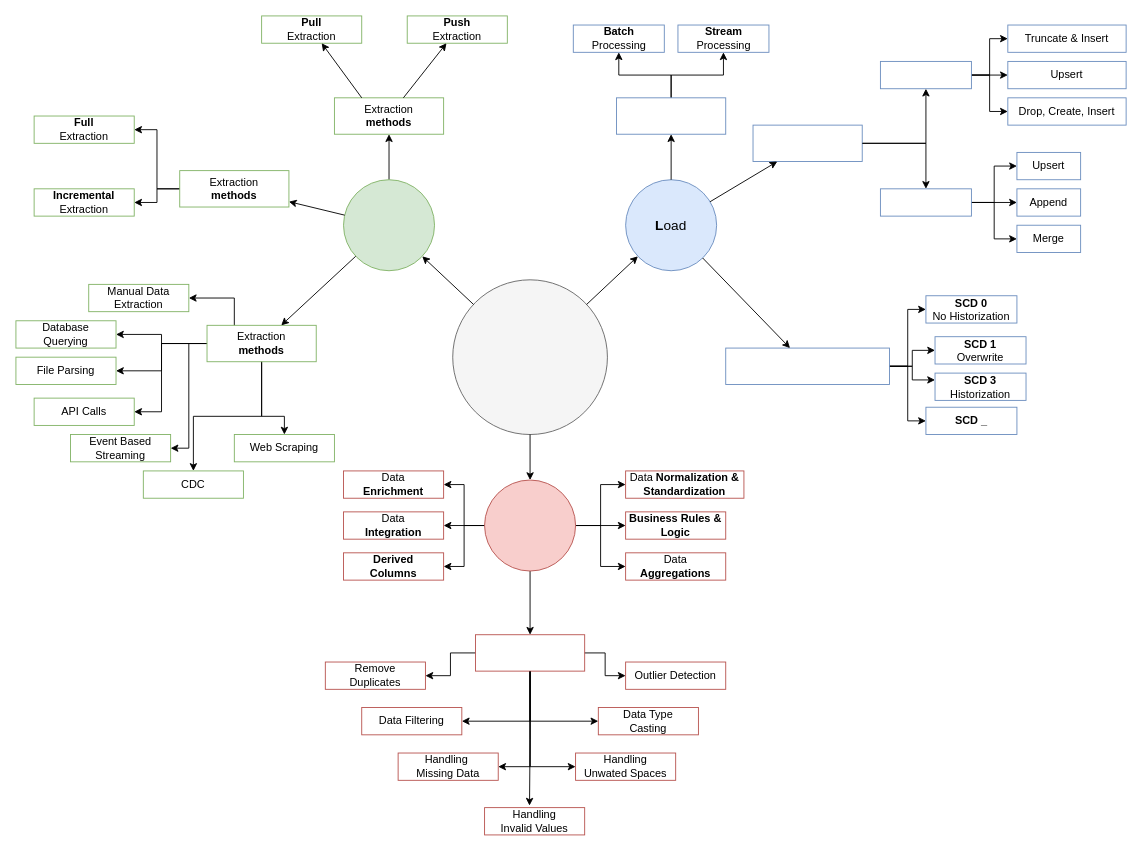
Image size: 1142x851. Some labels were removed from this diagram. Here are the shapes that lost their labels. From the top down, the centre of each, then its label:
At (x=925, y=75): "Full Load".
At (x=671, y=115): "Processing Types".
At (x=807, y=143): "Load Methods".
At (x=925, y=202): "Incremental Load".
At (x=389, y=225): "E xtraction".
At (x=529, y=357): "ETL".
At (x=807, y=365): "Slowly Changing Dimensions (SCD)".
At (x=530, y=525): "T ransformation".
At (x=530, y=652): "Data Cleansing".
